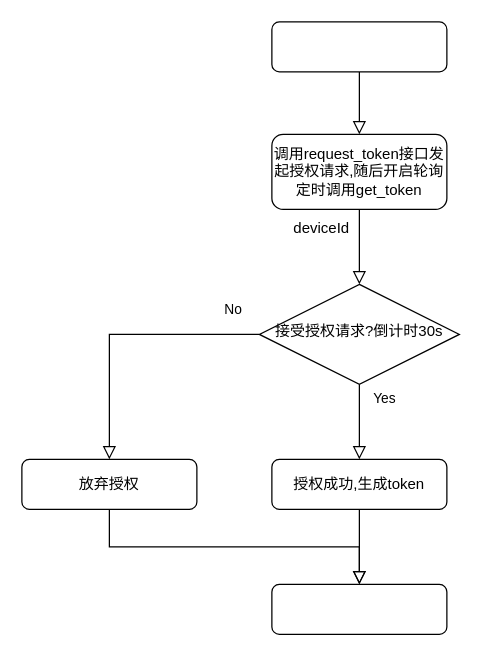
The diagram is 481 pixels wide and 656 high, and some of its shapes have lost their labels. Each missing label, with the centre of its shape:
"开始" belongs at (x=359, y=46).
"结束" belongs at (x=359, y=608).
